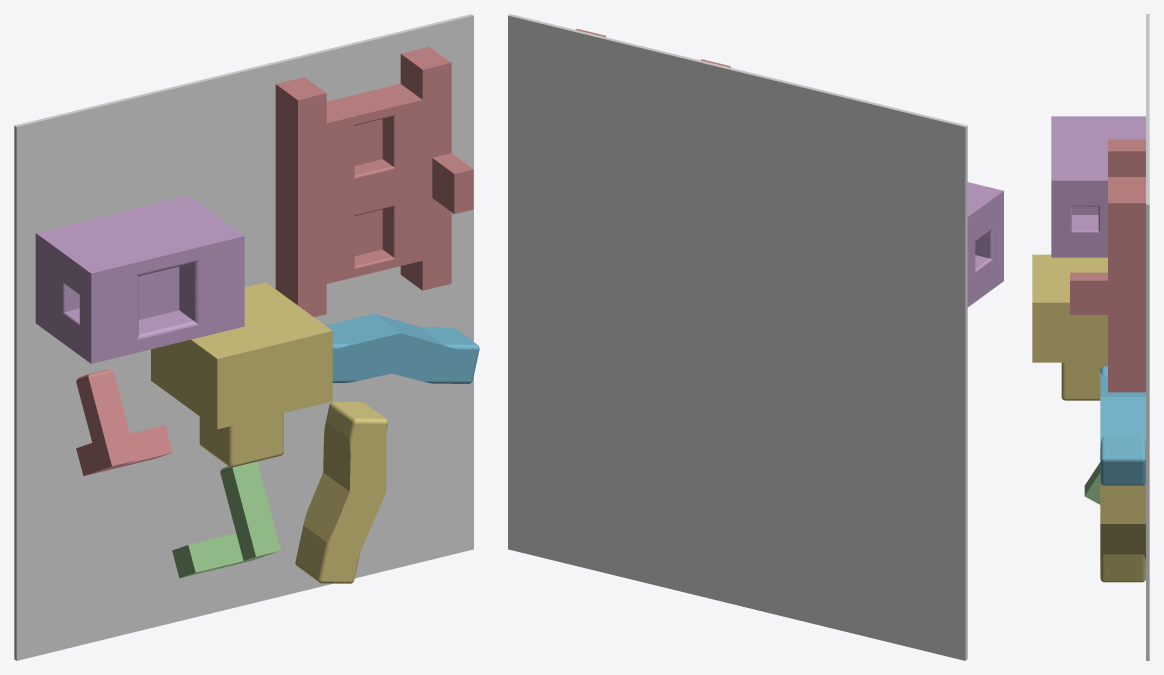
Rendered from pickup_layout.glb.
3 renders of one model, left to right at view 1: azimuth 30°, elevation 25°; view 2: azimuth 150°, elevation 25°; view 3: azimuth 270°, elevation 25°, orthographic. The views are drawn at different scales.
Parts seen in each view (by area): view 1: world, 0.obj, 3.obj, 6.obj, 1.obj, 2.obj, 4.obj, 5.obj; view 2: world, 3.obj; view 3: 0.obj, 3.obj, 6.obj, 2.obj, 1.obj, world, 4.obj.
Part boxes in pixels (x1,y1,x2,y2): world: (14,14,473,660); 0.obj: (275,46,473,317); 3.obj: (35,195,244,363); 6.obj: (151,282,332,467); 1.obj: (295,401,388,583); 2.obj: (326,314,479,383); 4.obj: (172,461,280,578); 5.obj: (76,369,172,475); world: (508,14,967,660); 3.obj: (967,182,1003,307); 0.obj: (1070,139,1145,392); 3.obj: (1051,116,1145,257); 6.obj: (1032,254,1107,400); 2.obj: (1100,366,1145,485); 1.obj: (1100,482,1145,582); world: (1146,14,1149,660); 4.obj: (1084,462,1100,504).
Size of the model in its own units: 23.82 by 26.57 by 6.2.
